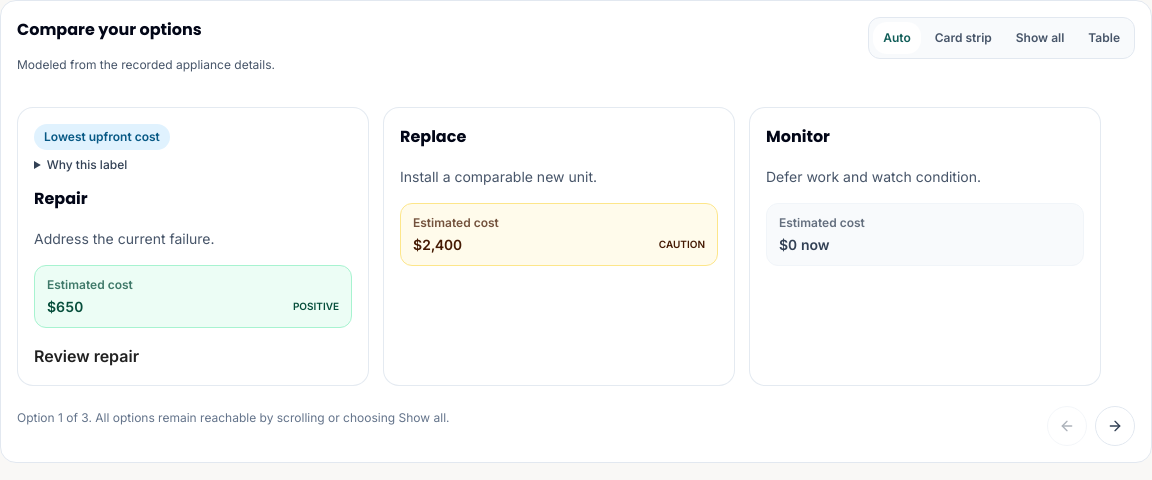
Scenario: exposes visible keyboard-operable strip controls and position context
Expected: the text "Option 1 of 3" is shown, [17,409,450,427]
Click the button named "Next option in Compare your options": (1115, 426) [1095,406,1135,446]
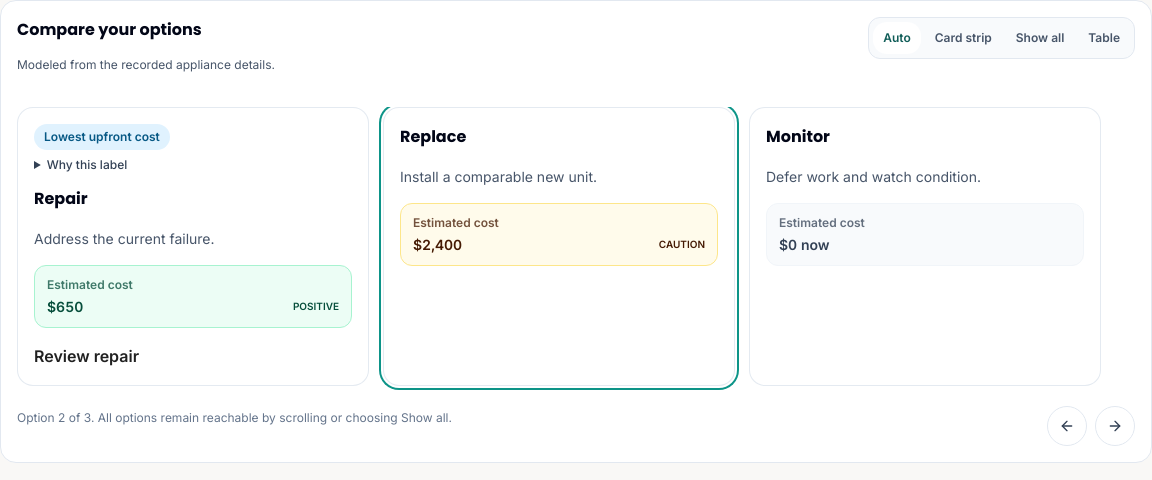
Expected: the text "Option 2 of 3" is shown, [17,409,452,427]
Expected: the button named "Previous option in Compare your options" is enabled, [1047,406,1087,446]
